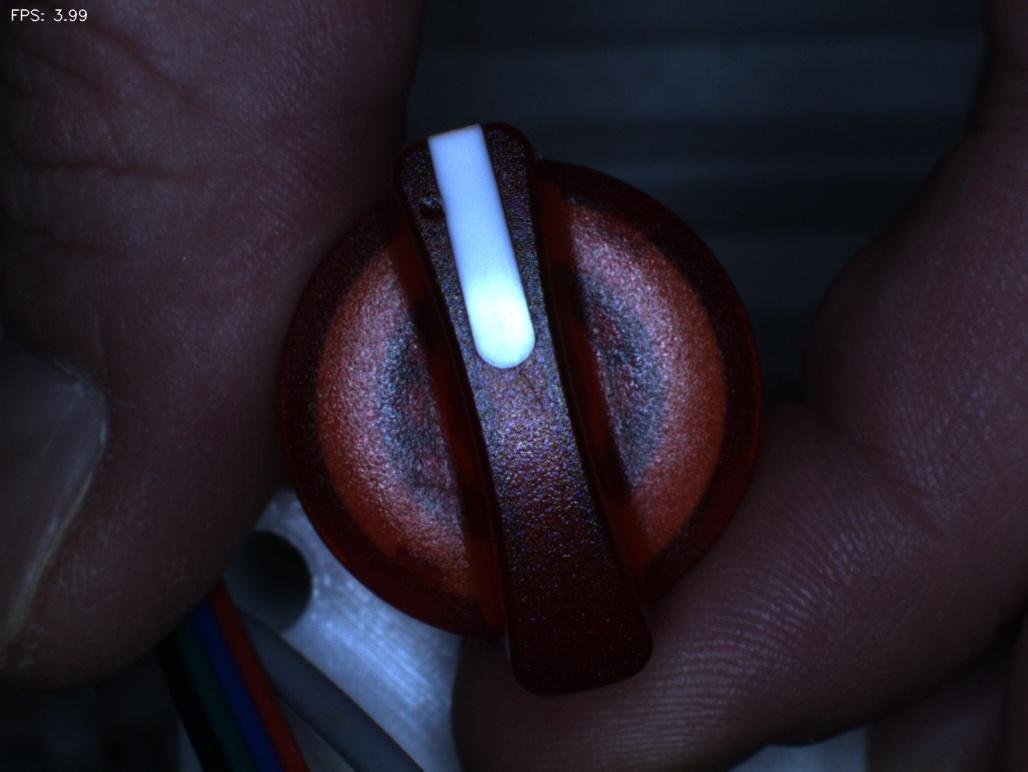Choc: (383, 169, 474, 252)
